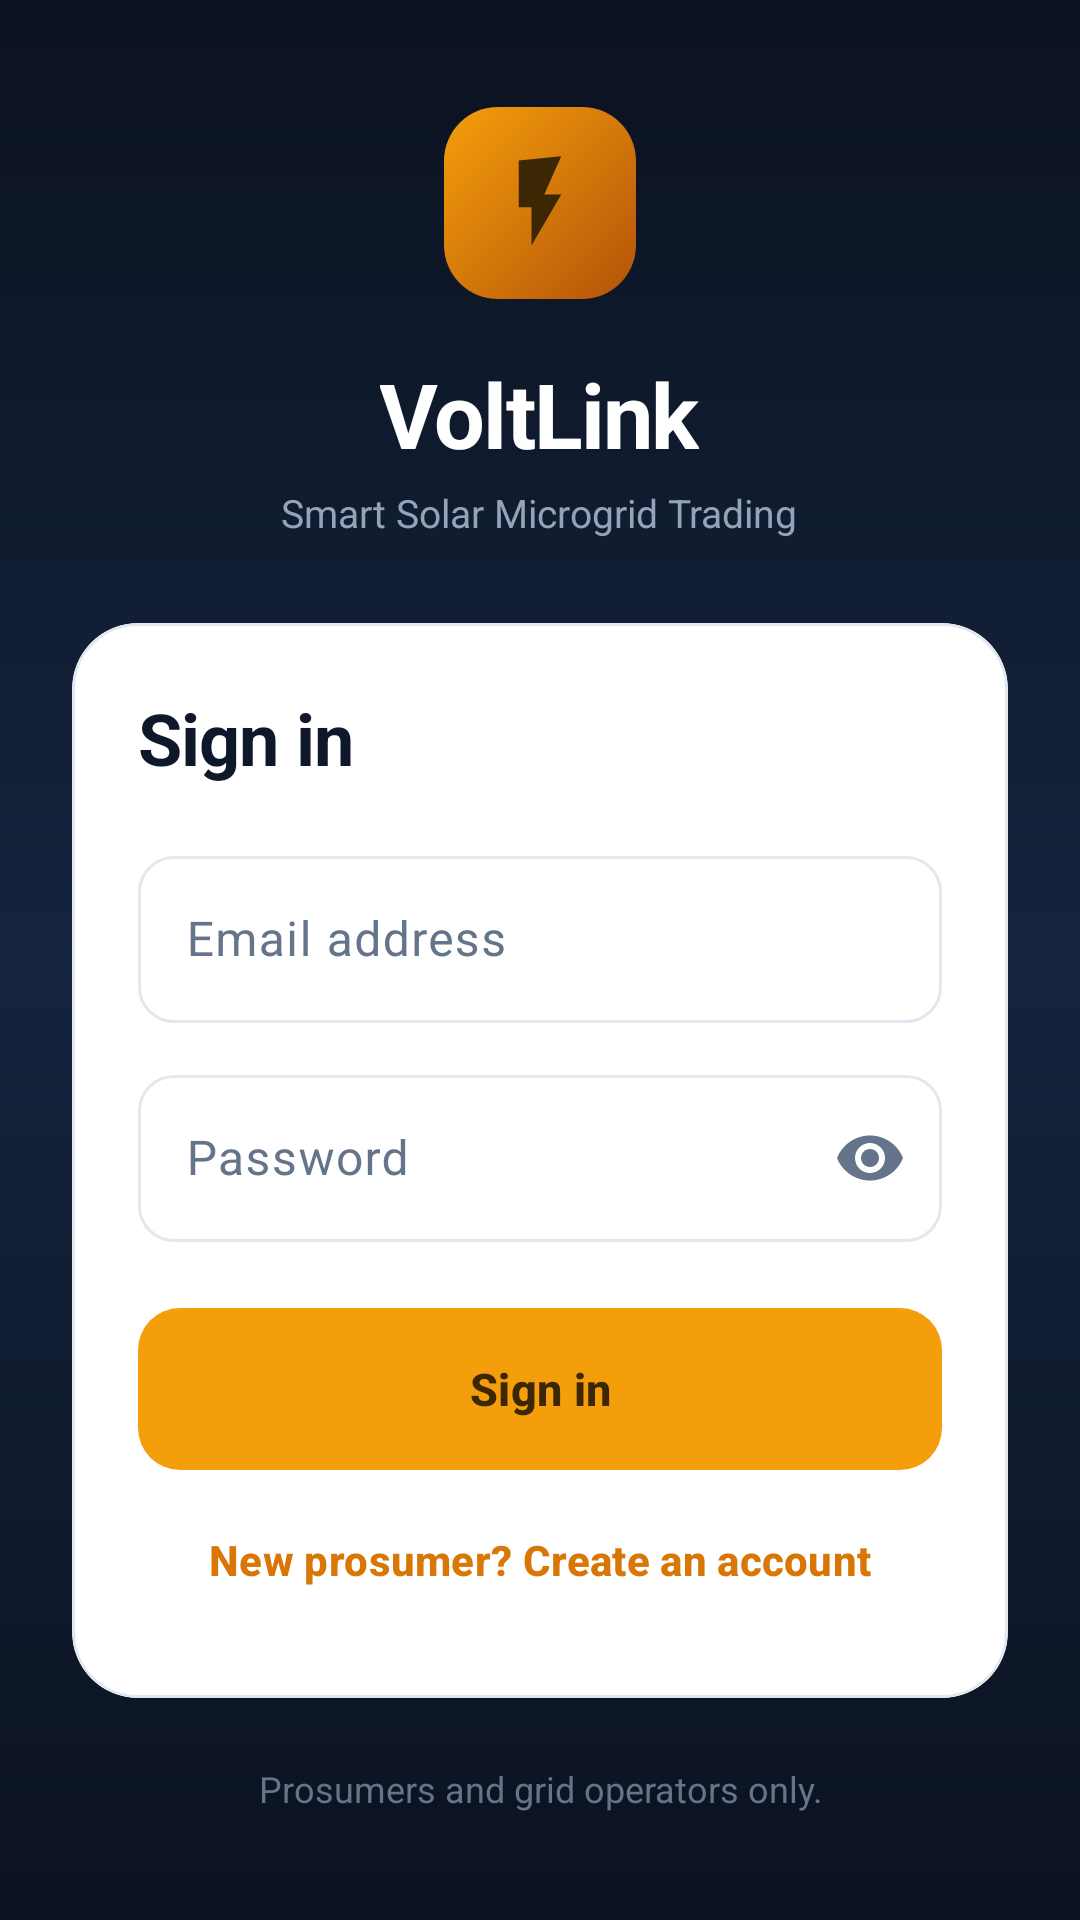

Named icons in this screenshot (1080px x 1920px) and their centers, [x,y]:
bolt: [540,203]
